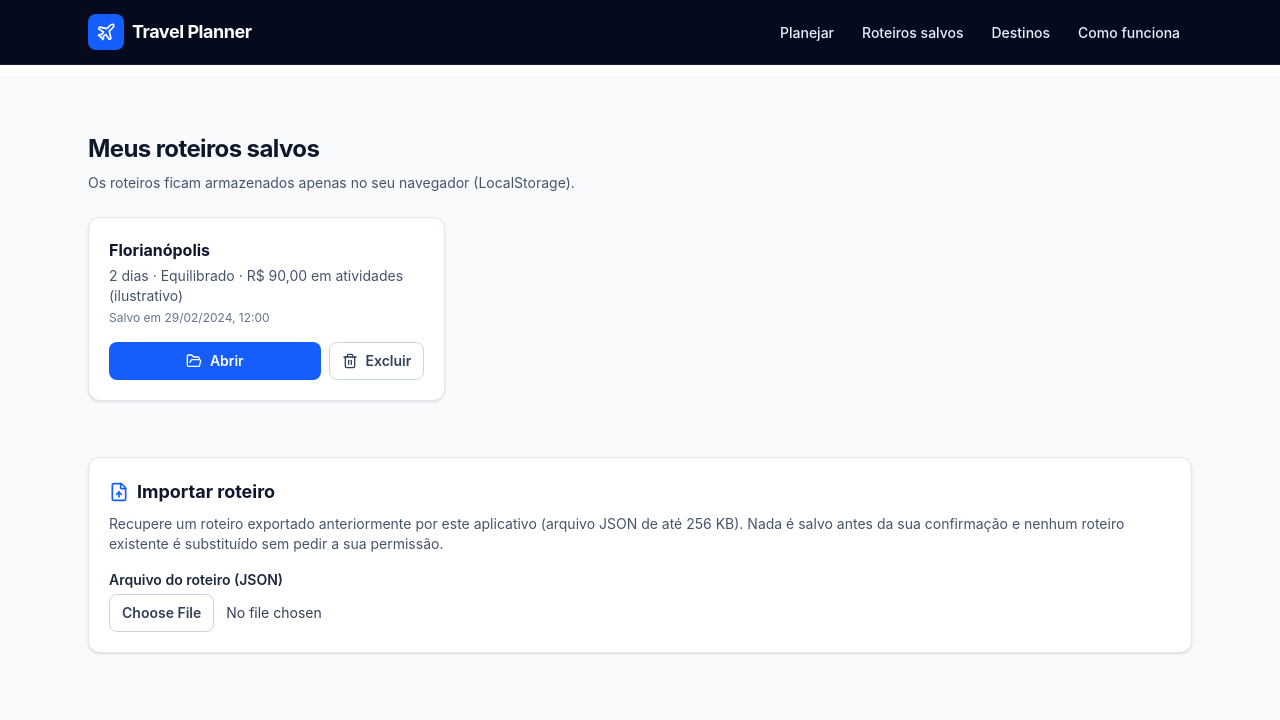
Test case: AUD-02 — mensagens correspondentes ao estado real › falha de escrita (quota) seguida de leitura indisponível: alerta genérico sem afirmação absoluta
The image size is (1280, 720).
(page scrolled)
Click the button with aria-label "Excluir roteiro de Florianópolis": (376, 361) 329,342 -> 424,380
(page scrolled)
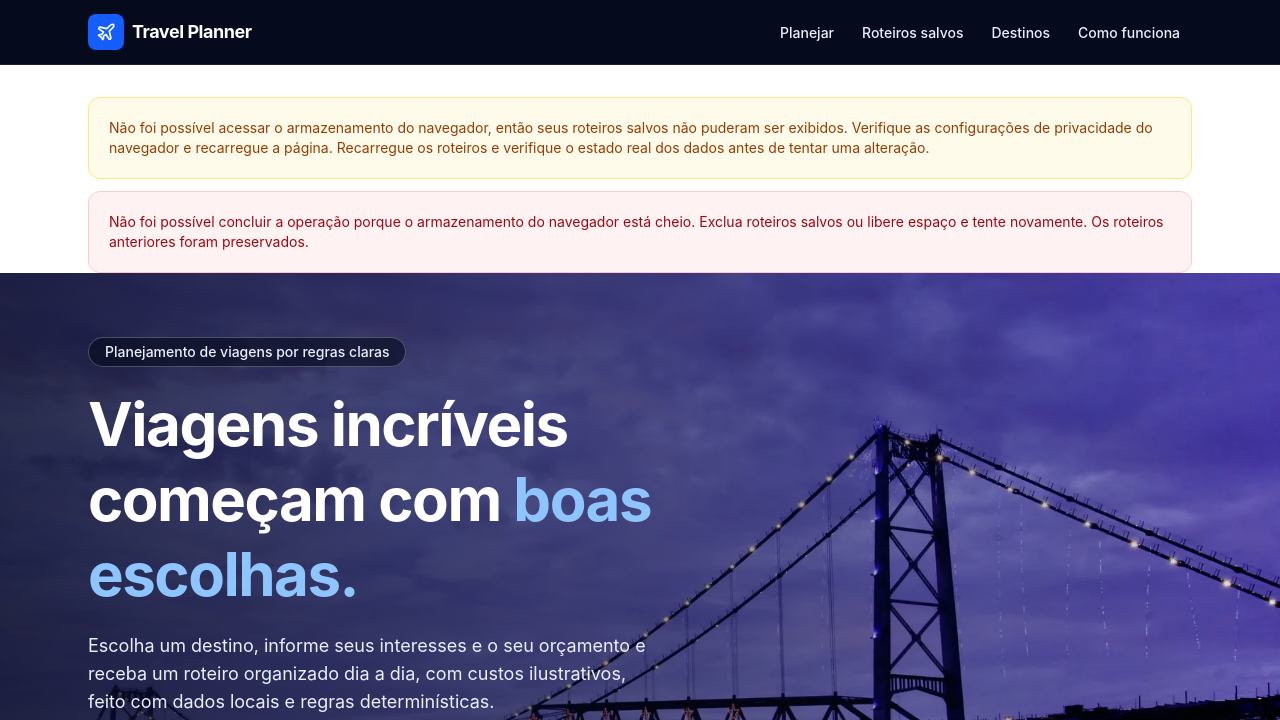
Expected: the text "armazenamento do navegador está cheio" is shown, 109,213 -> 1164,250
Expected: the text "Não foi possível acessar o armazenamento do navegador" is shown, 109,119 -> 1153,156
